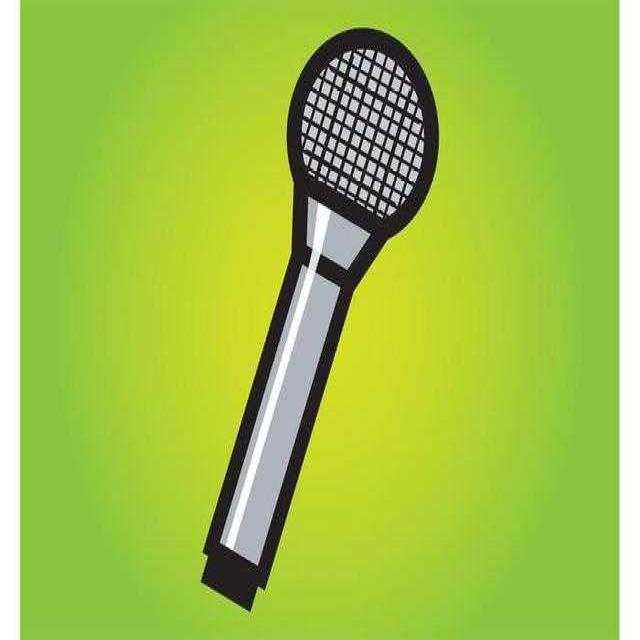microphone: (196, 33, 440, 606)
